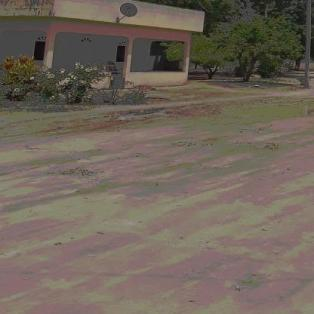Poste: (302, 0, 314, 91)
